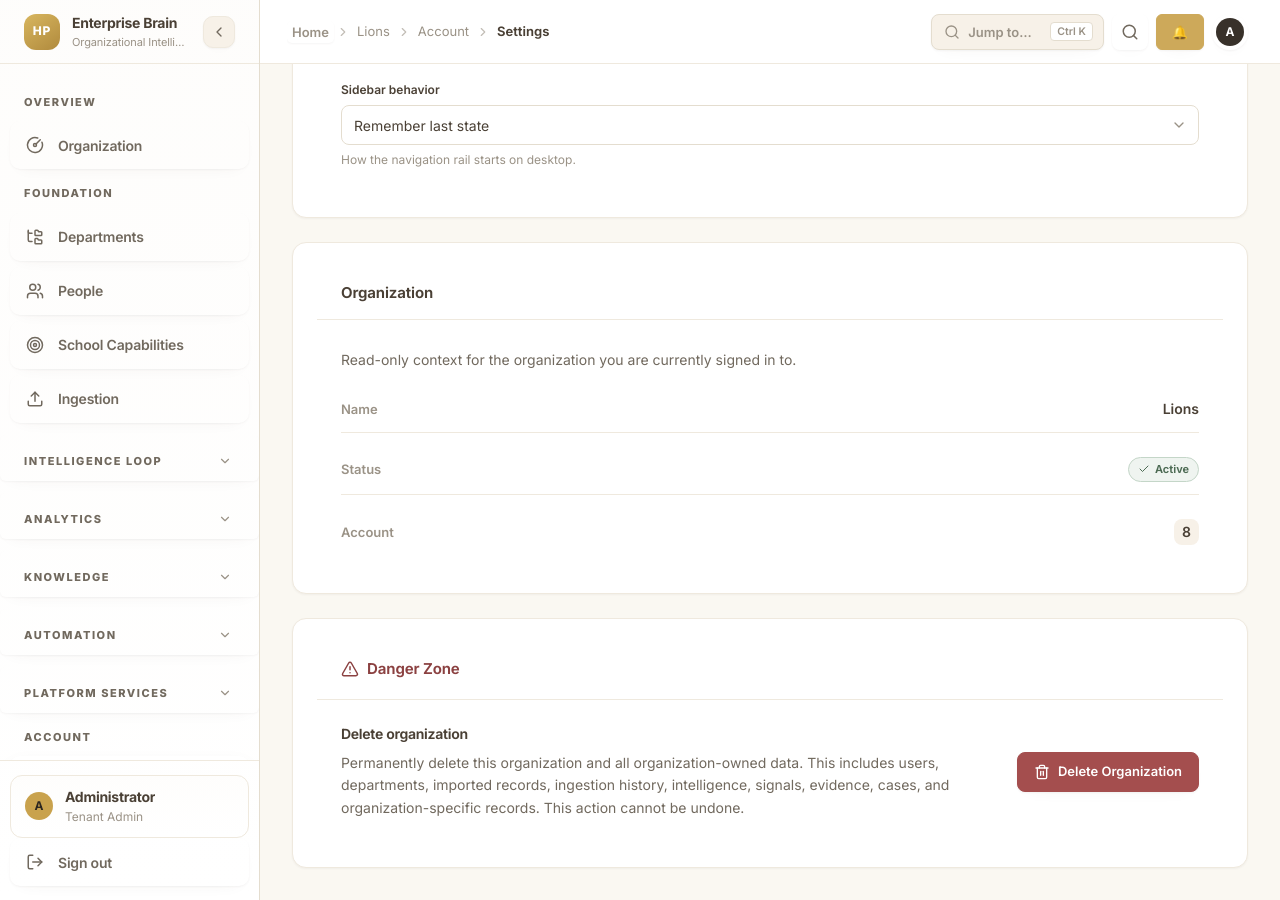
Test: permanent deletion ends the session › keeps the session when the deletion fails
(page scrolled)
Expected: the text "Danger Zone" is shown, [341, 659, 460, 679]
Click the button "Delete Organization" at (1108, 772), box [1017, 752, 1199, 792]
(page scrolled)
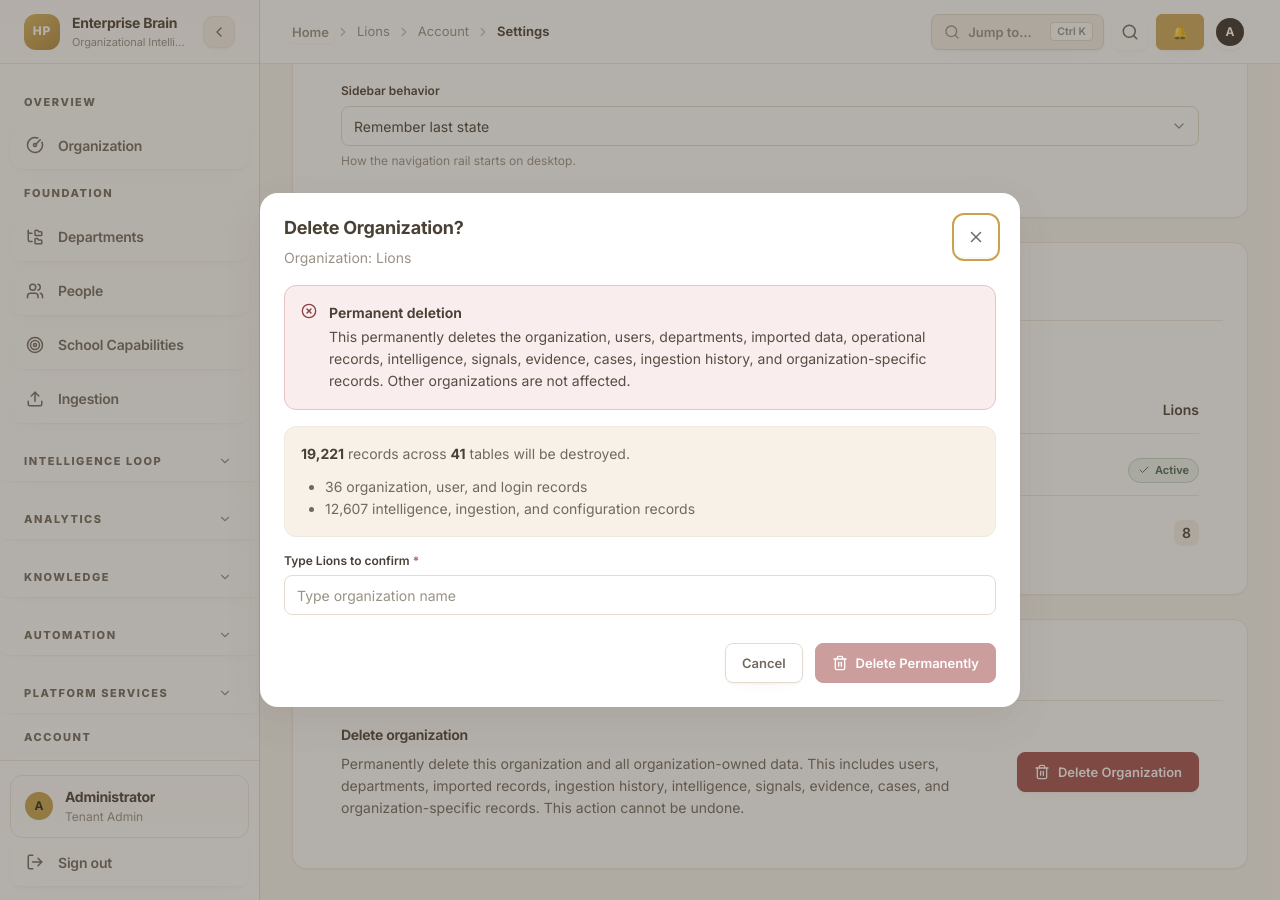
Result: the text "Organization: Lions" is shown at [284, 249, 411, 266]
Type "Lions" into the field with placeholder "Type organization name" at (640, 596), box [284, 576, 996, 616]
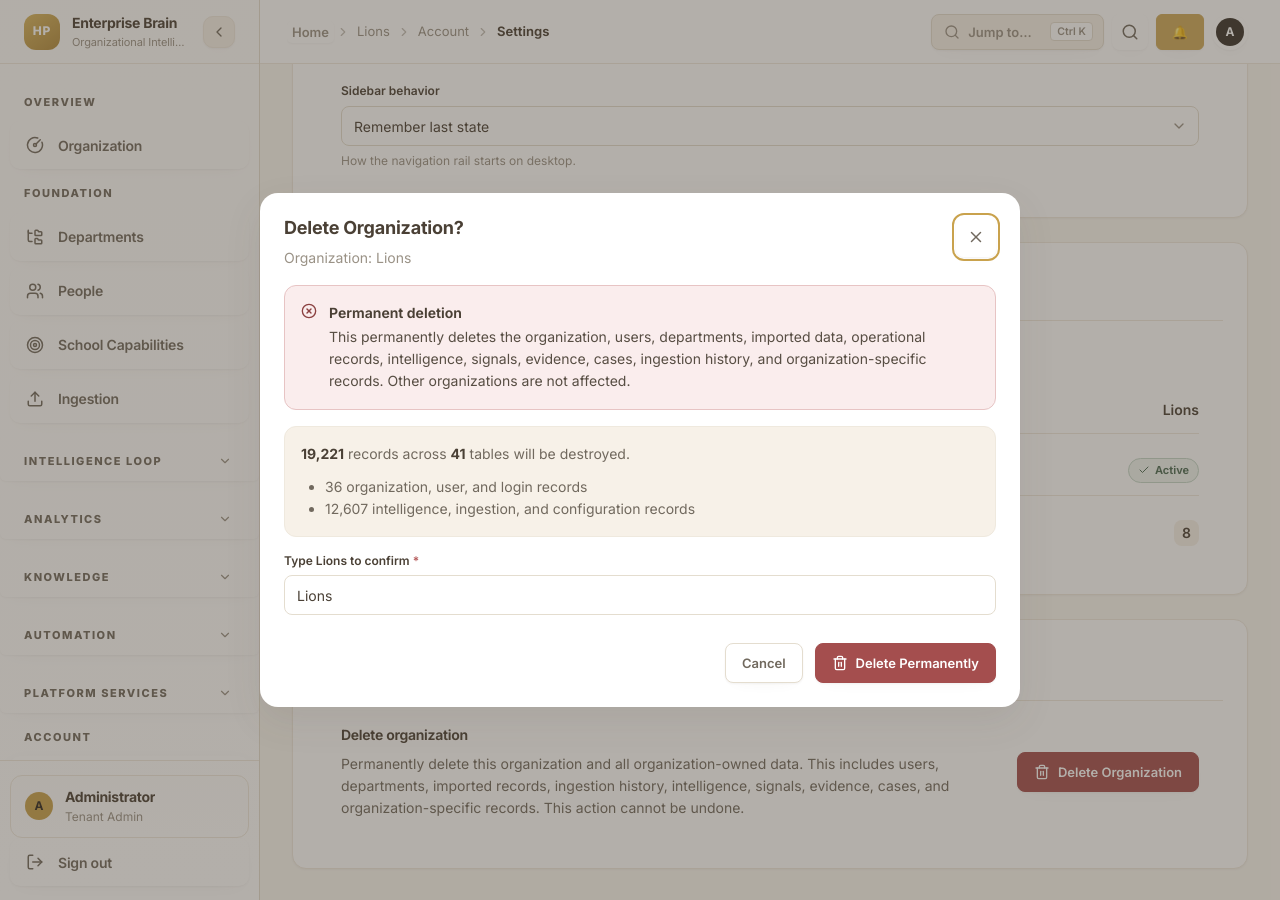
Click the button "Delete Permanently" at (905, 664), box [815, 644, 996, 684]
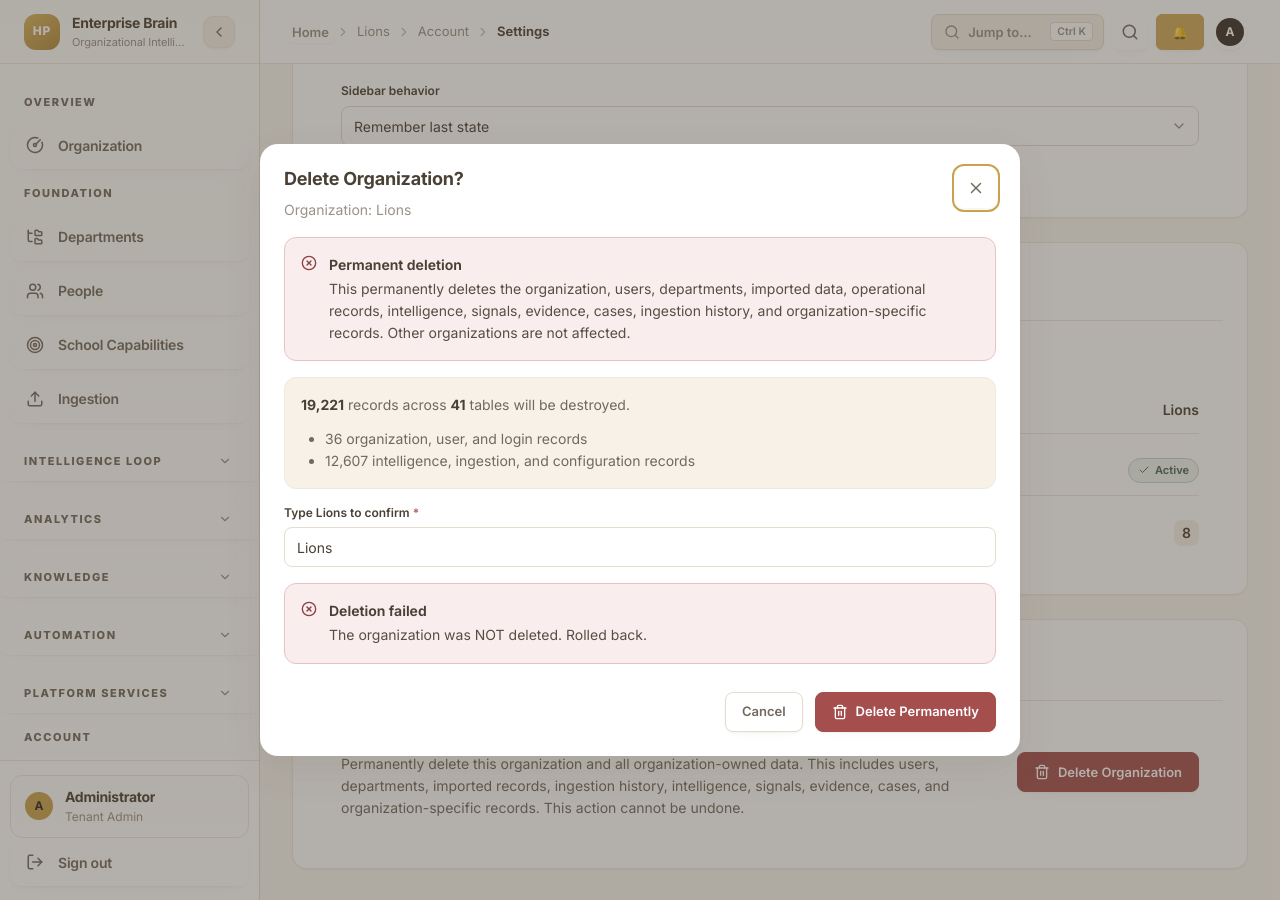
Result: the text "The organization was NOT deleted. Rolled back." is shown at [329, 624, 647, 647]
